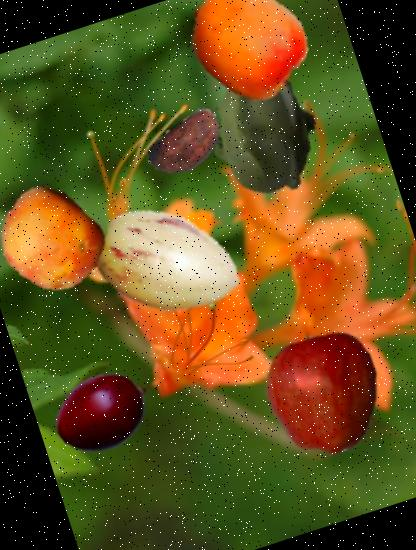Apple: (245, 312, 403, 470)
Apricot: (172, 0, 323, 117)
Chestnut: (135, 93, 238, 196)
Kohlrabi: (186, 56, 342, 212)
Peach: (0, 172, 120, 306)
Pepino: (77, 171, 261, 354)
Tamarillo: (41, 349, 166, 474)
